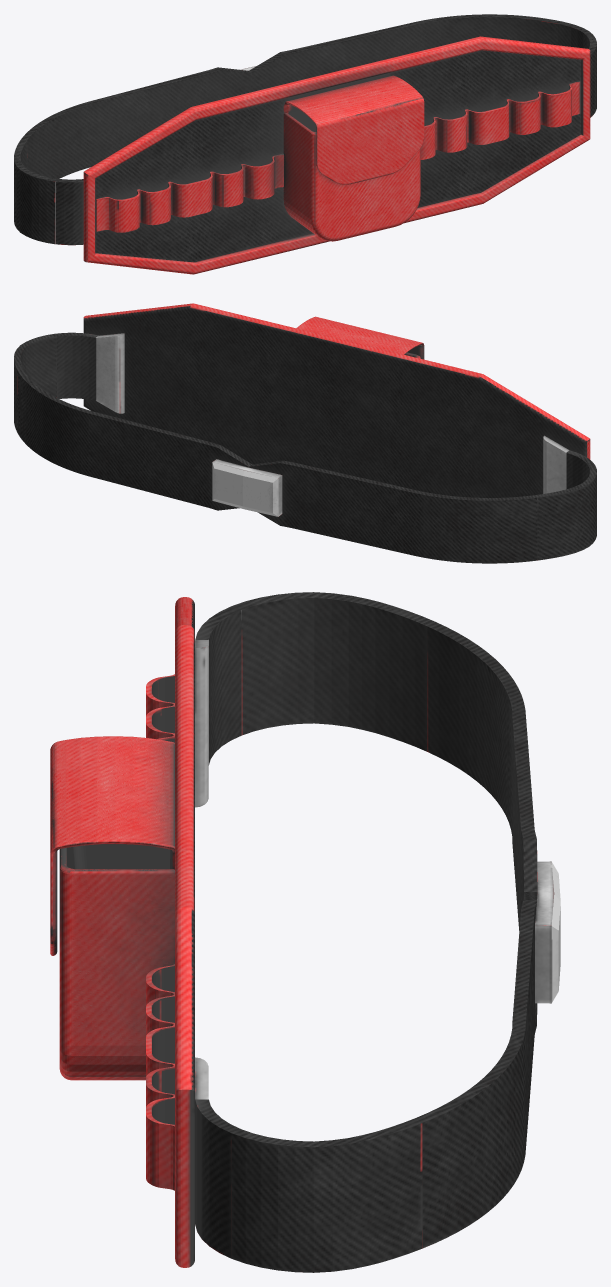
Rendered from tas perkakas.fbx.
The picture shows the model from 3 angles, top to bottom: view 1: azimuth 30°, elevation 25°; view 2: azimuth 150°, elevation 25°; view 3: azimuth 270°, elevation 25°; orthographic projection. The views are drawn at different scales.
Parts seen in each view (by area): view 1: Cube; view 2: Cube; view 3: Cube.
Part boxes in pixels (x1,y1,x2,y2): Cube: (14,14,596,274); Cube: (14,303,596,563); Cube: (50,592,560,1272).
Size of the model in its own units: 732 by 205 by 285.
1 material, 1 textured.
